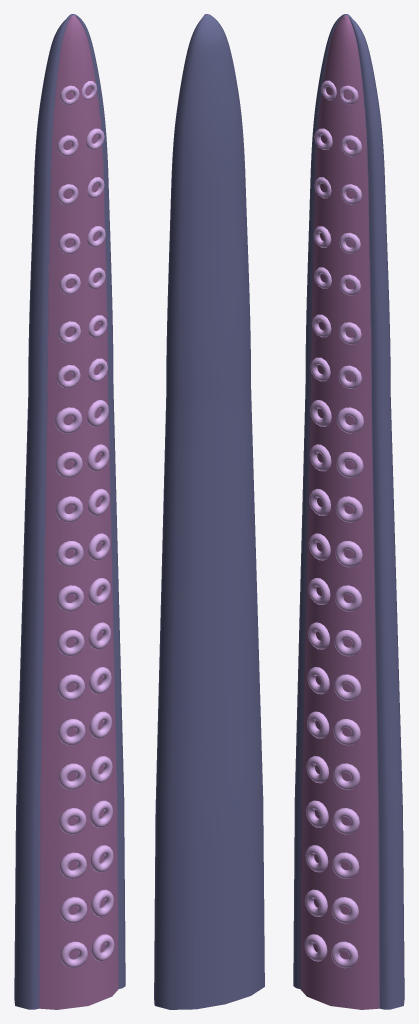
The model's file is side atk.fbx.
3 renders of one model, left to right at view 1: azimuth 30°, elevation 25°; view 2: azimuth 210°, elevation 25°; view 3: azimuth 330°, elevation 25°, orthographic.
Parts seen in each view (by area): view 1: side atk.001, suction cup.006; view 2: side atk.001; view 3: side atk.001, suction cup.006.
Part boxes in pixels (x1,y1,x2,y2): side atk.001: (14,14,125,1009); suction cup.006: (55,81,114,968); side atk.001: (154,14,264,1009); side atk.001: (293,14,404,1009); suction cup.006: (304,80,363,968).
Size of the model in its own units: 508 by 4321 by 304.
